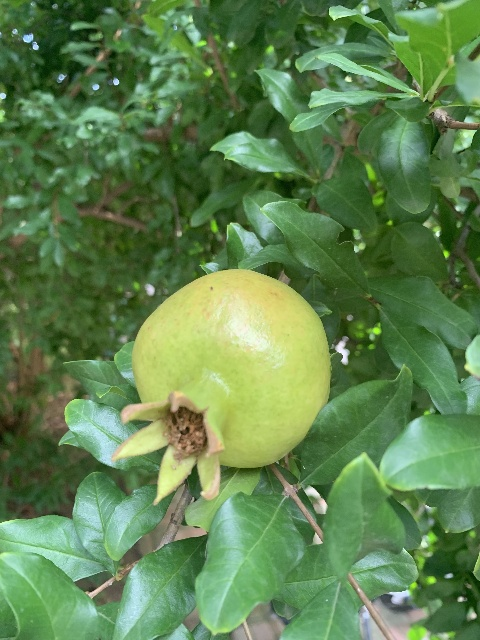mid-growth: (112, 269, 331, 506)
